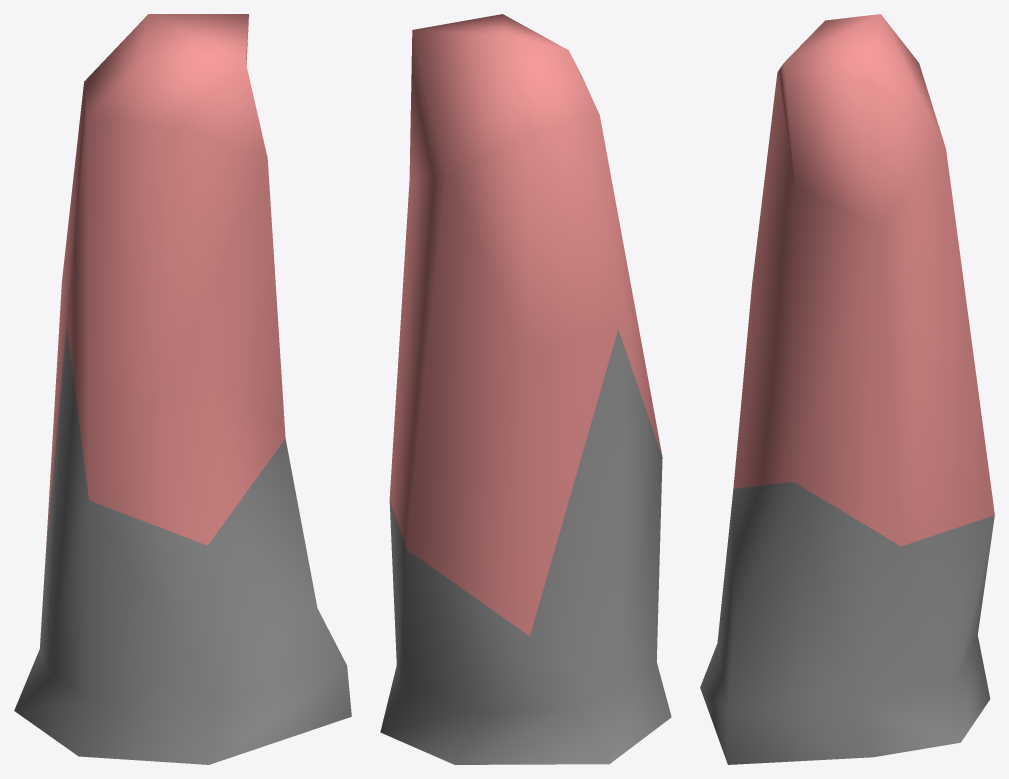
3 views of the same model, side by side, from view 1: azimuth 30°, elevation 25°; view 2: azimuth 150°, elevation 25°; view 3: azimuth 270°, elevation 25° (orthographic).
Parts seen in each view (by area): view 1: O_DE_MT_obj04; view 2: O_DE_MT_obj04; view 3: O_DE_MT_obj04.
Boxes of the visible parts, box(x1,y1,x2,y2) form: O_DE_MT_obj04: box(14, 14, 351, 764); O_DE_MT_obj04: box(380, 14, 671, 764); O_DE_MT_obj04: box(700, 14, 994, 764).
Size of the model in its own units: 3.11 by 8.16 by 3.17.
